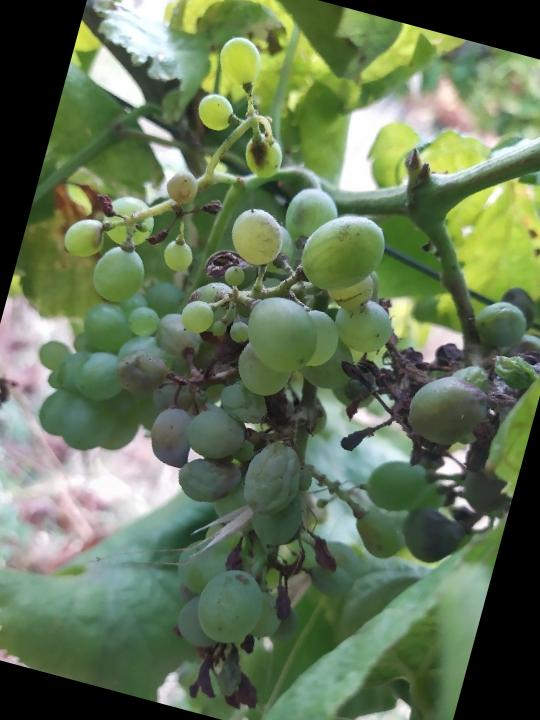grape: (0, 134, 430, 720)
